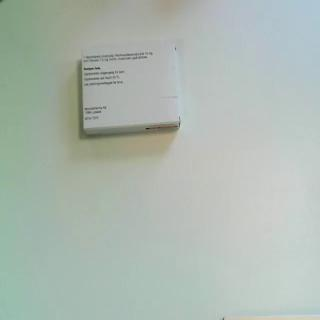dolcontin10mg: (81, 38, 183, 138)
